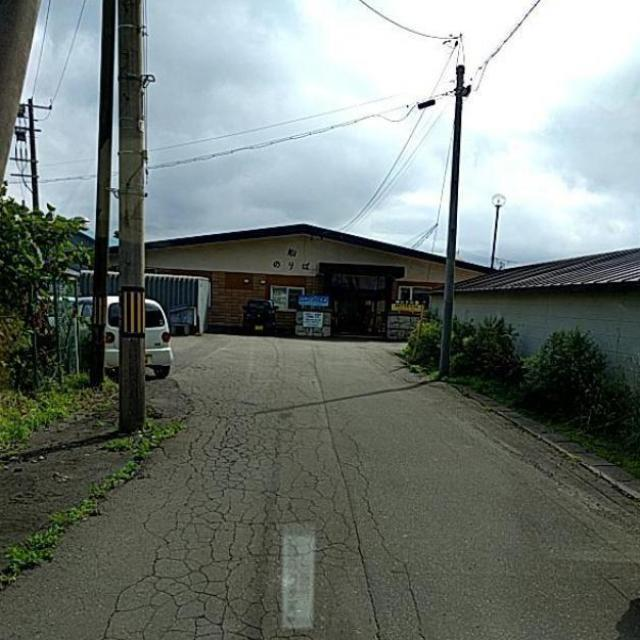Retak Buaya: (97, 402, 356, 640)
